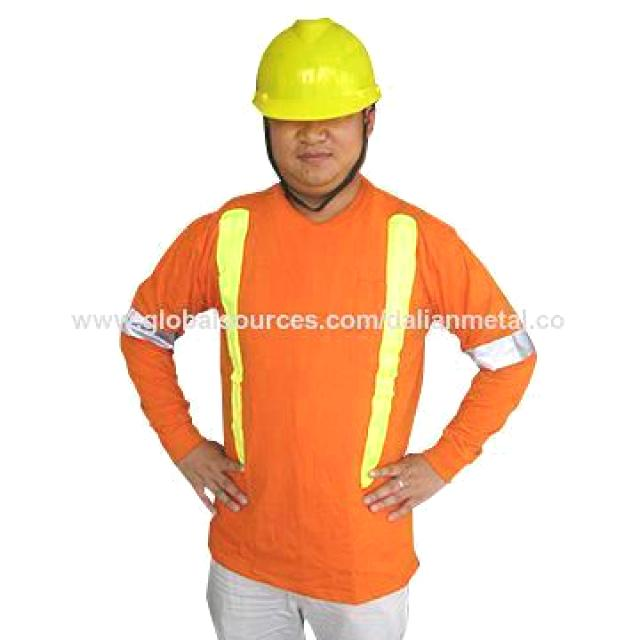face_nomask: (256, 114, 359, 192)
hand_noglove: (164, 437, 256, 521), (372, 446, 446, 521)
head_helmet: (240, 18, 396, 116)
person: (172, 7, 478, 624)
vest: (199, 208, 434, 507)
